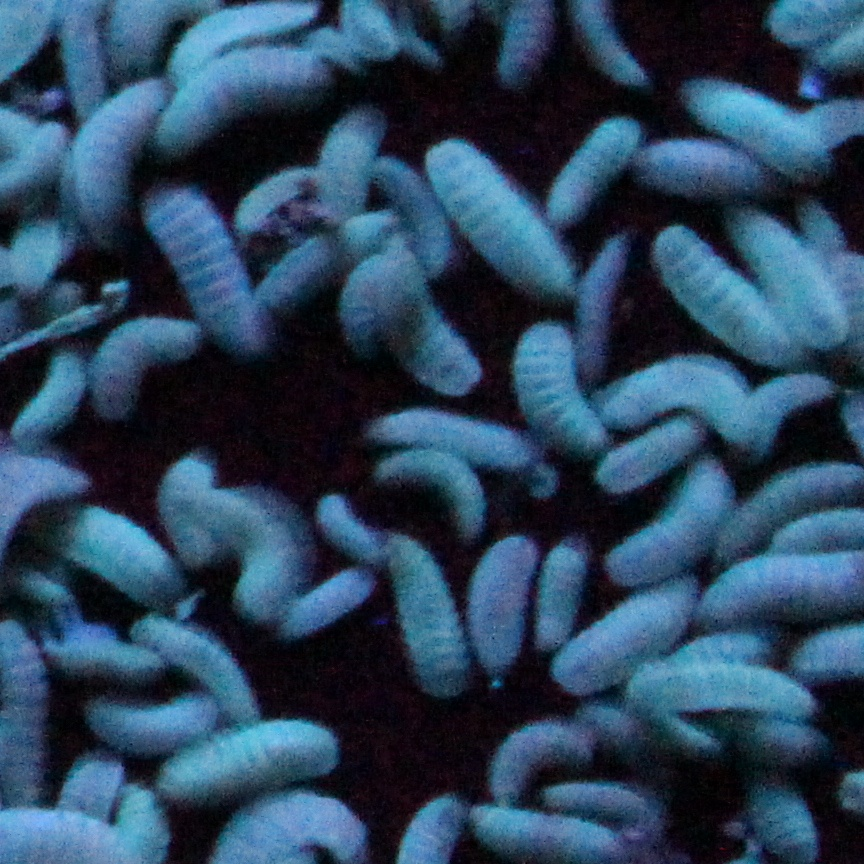larve: (438, 137, 547, 290), (164, 194, 257, 346), (168, 52, 318, 146), (634, 649, 809, 723), (153, 727, 338, 786), (672, 212, 746, 357), (77, 101, 144, 251), (208, 795, 374, 854), (718, 555, 864, 622), (397, 520, 453, 694), (208, 495, 287, 617), (516, 321, 587, 454), (558, 109, 634, 220), (534, 534, 601, 653), (605, 496, 725, 560), (372, 402, 514, 454), (613, 363, 749, 416), (679, 73, 795, 134), (644, 141, 759, 200), (375, 456, 486, 515), (483, 520, 527, 664), (60, 508, 150, 578), (754, 377, 835, 453), (381, 259, 432, 379), (294, 569, 373, 644), (584, 250, 628, 377), (483, 715, 562, 785), (55, 628, 150, 686), (607, 425, 688, 493), (172, 1, 312, 40), (321, 106, 372, 211), (764, 216, 809, 331), (159, 456, 208, 558), (770, 454, 862, 505), (154, 618, 227, 679), (29, 348, 75, 444), (332, 267, 379, 357), (610, 593, 678, 650), (780, 506, 864, 550), (97, 333, 148, 402), (74, 744, 122, 813), (568, 783, 659, 819), (22, 217, 55, 287)
